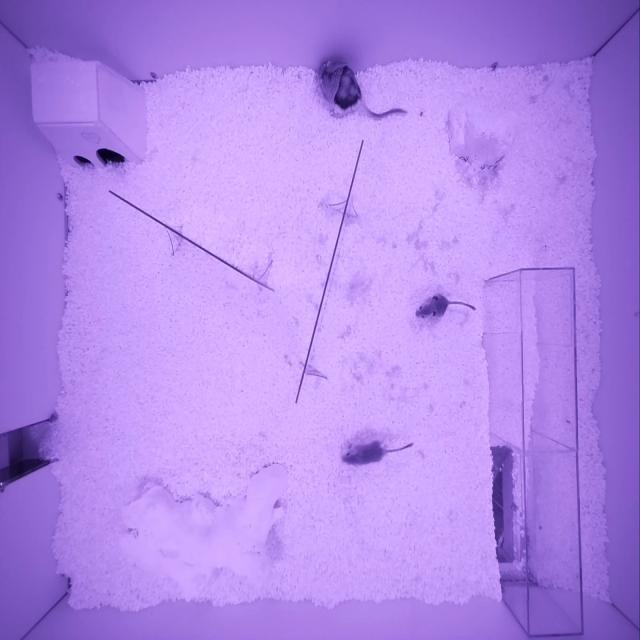adult_back: (318, 61, 365, 116)
pup_fluffy: (340, 439, 384, 465)
pup_spotted: (415, 294, 449, 318)
